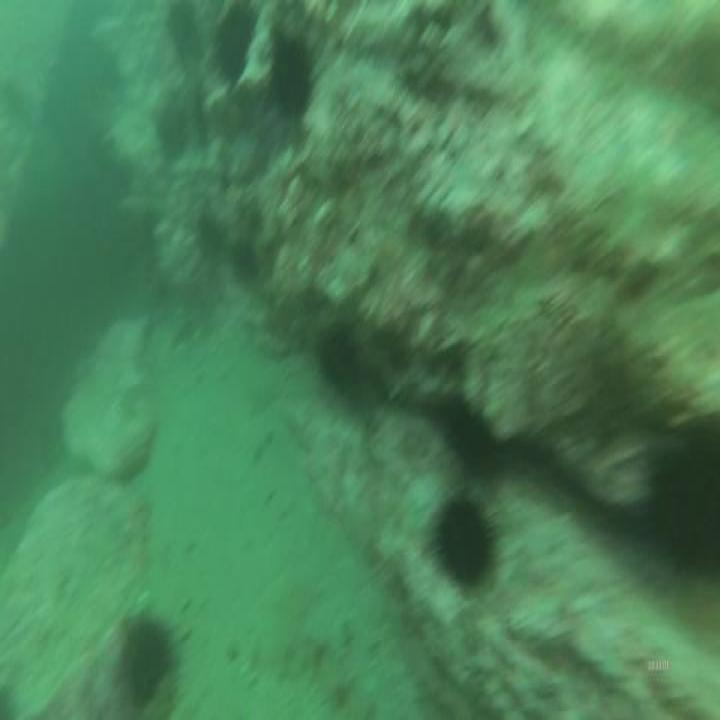echinus: (637, 400, 720, 606), (111, 587, 186, 709), (427, 483, 494, 602), (267, 22, 323, 134), (315, 309, 367, 409), (210, 5, 265, 96)
